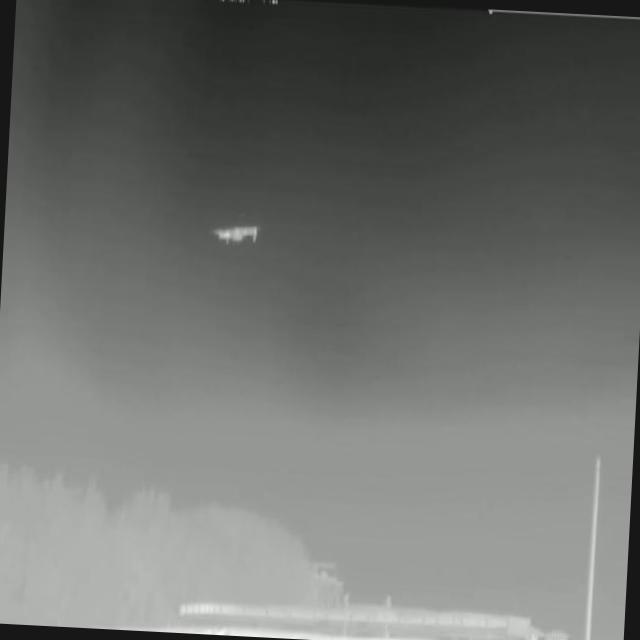DRONE: (202, 212, 268, 258)
